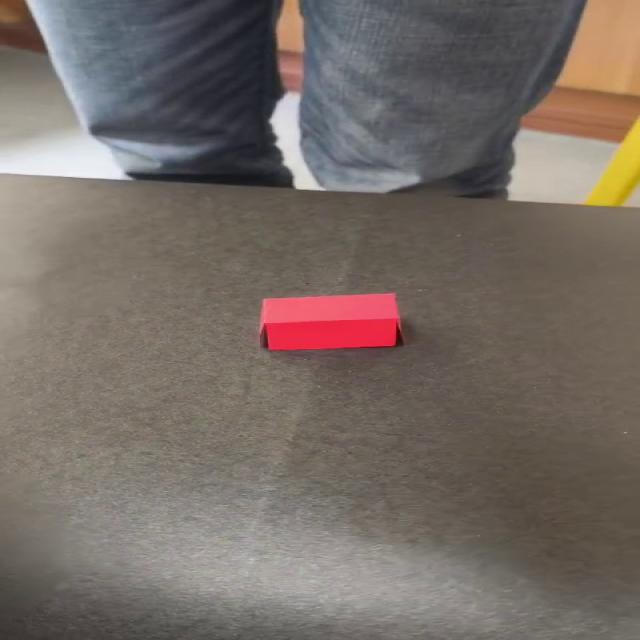red block: (257, 291, 403, 351)
